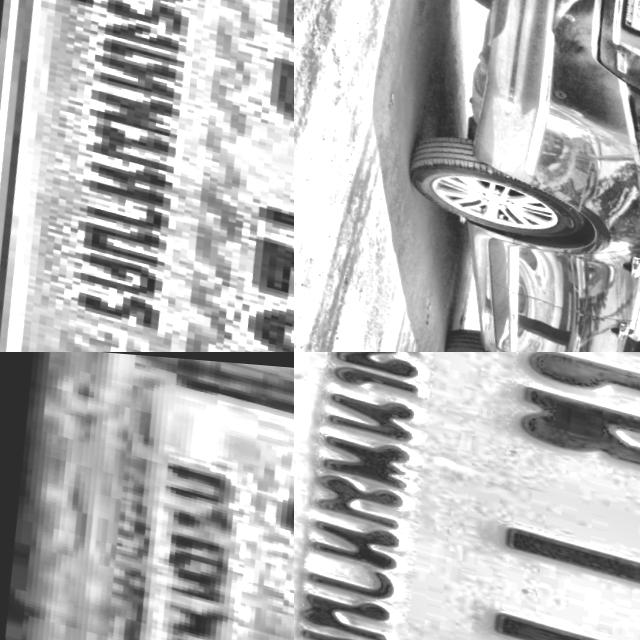license-plate: (0, 0, 294, 352), (294, 352, 640, 640), (0, 352, 294, 640), (603, 0, 640, 43)
